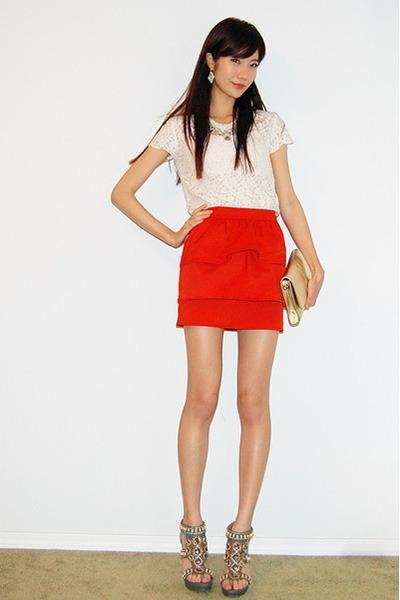short sleeve shirt: (149, 108, 298, 216)
skirt: (173, 205, 289, 333)
